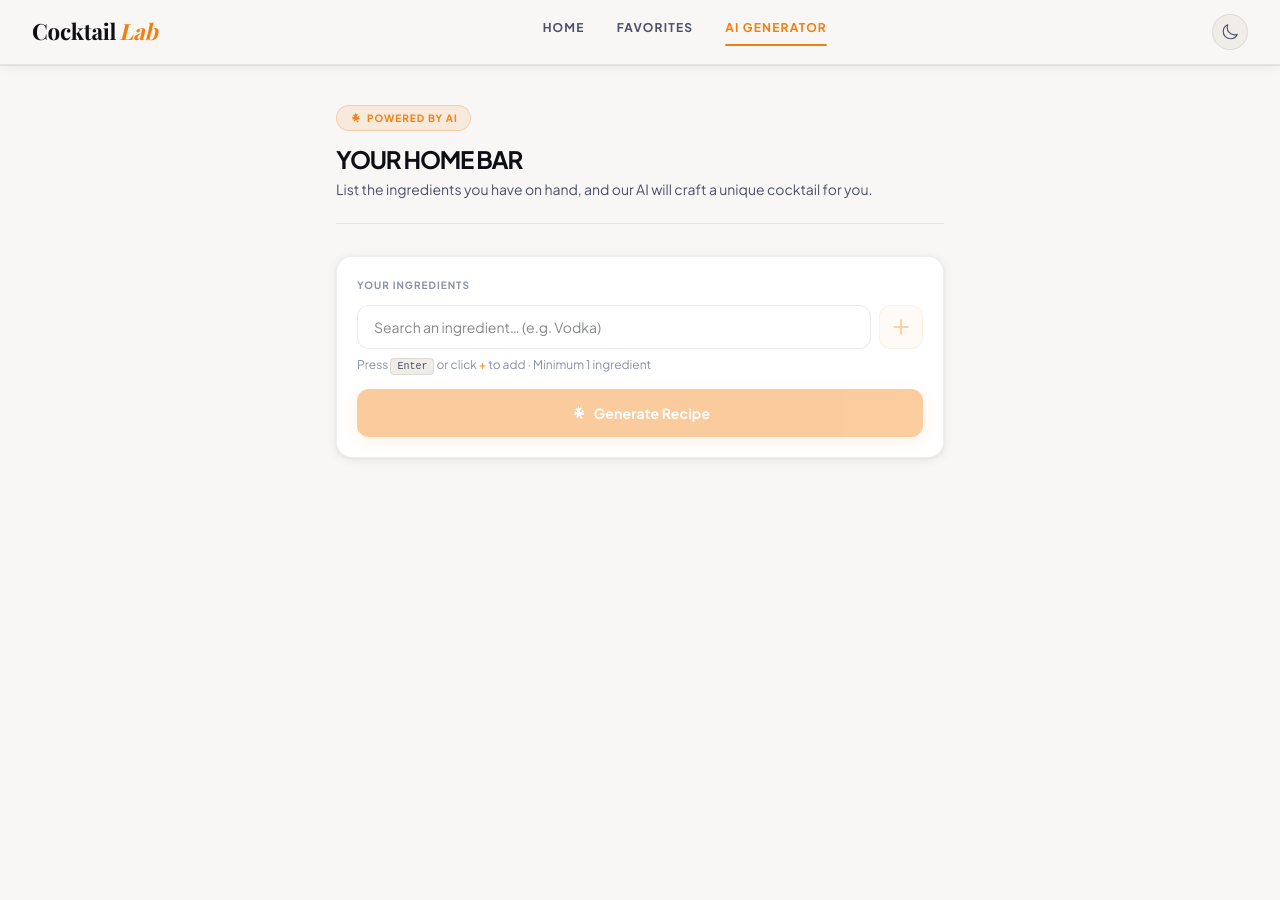
Test: GenerateAI view › shows 'Save Creation' and 'Re-craft Recipe' buttons after generation
In the field with placeholder "Search an ingredient… (e.g. Vodka)": {"x": 614, "y": 327} [357,305,871,349], type "Gin"
Then press Enter
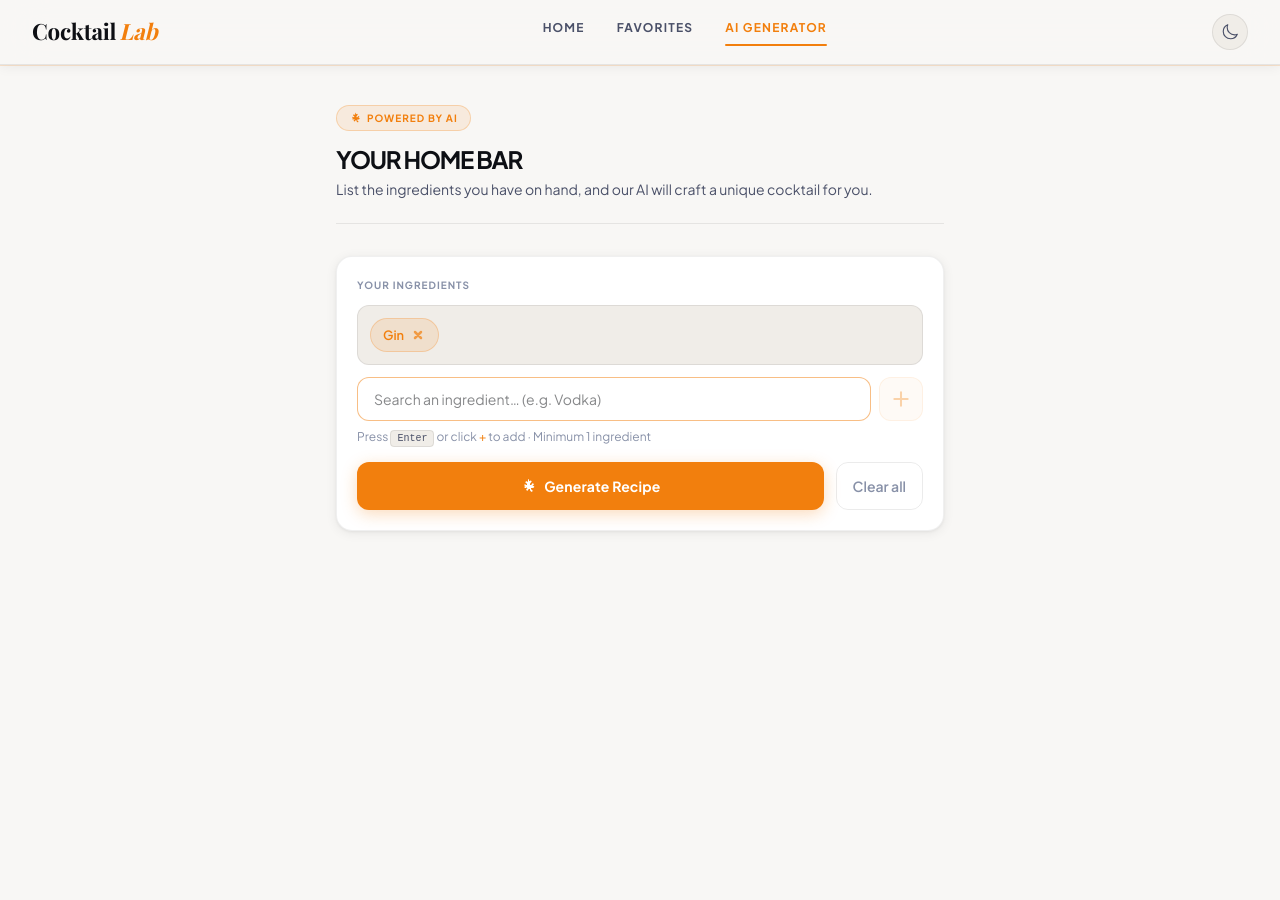
Click the button "Generate Recipe": {"x": 590, "y": 486} [357,462,824,510]
(page scrolled)
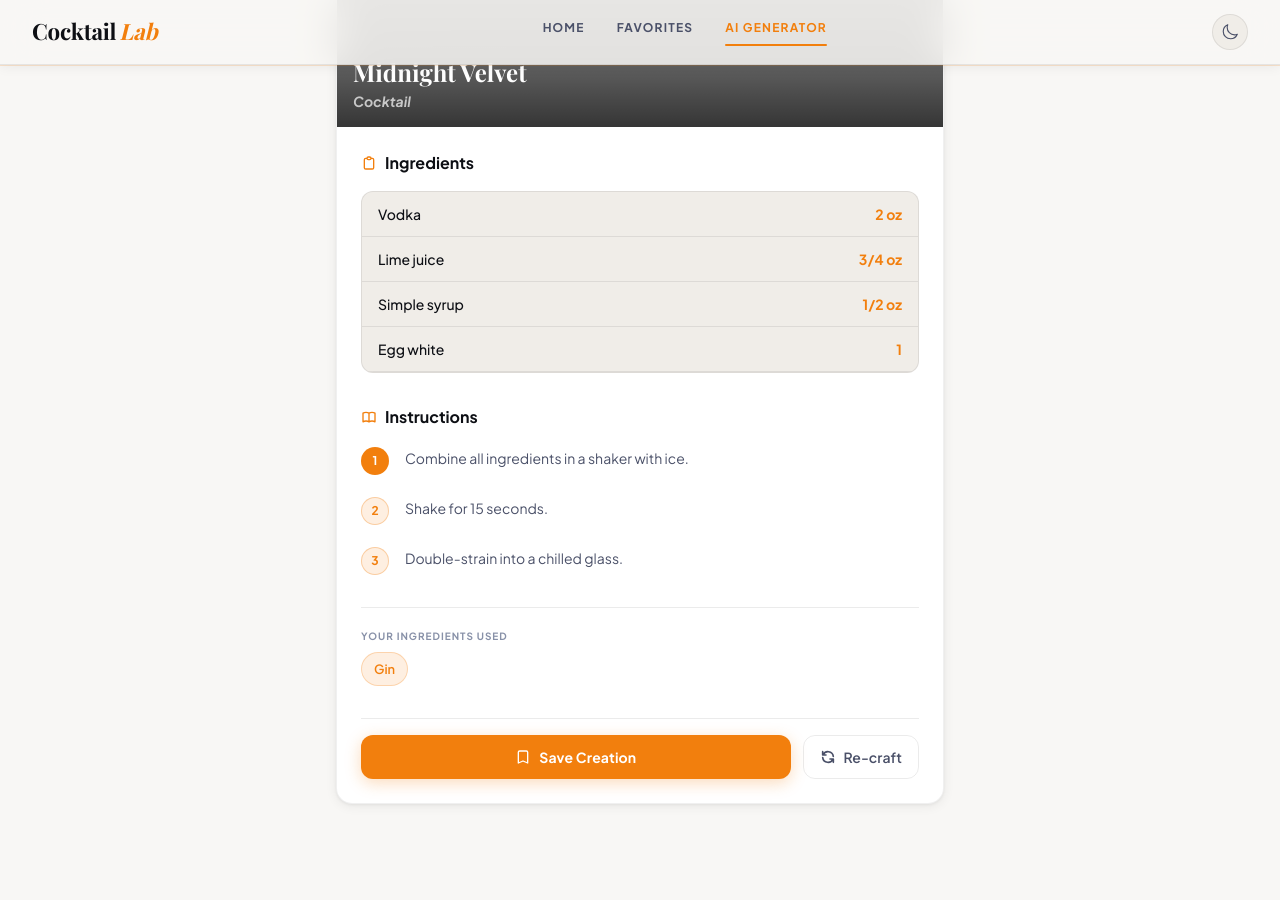
expect the button with aria-label "save to my creations" is shown: met, box [361,735,791,779]
expect the button with aria-label "re-craft recipe with same ingredients" is shown: met, box [803,735,919,779]
